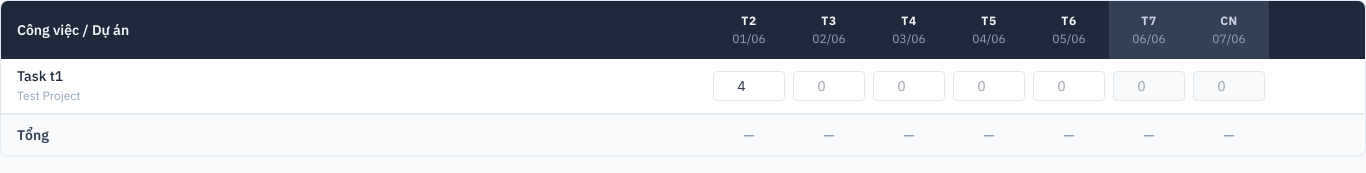
it: WeeklyGrid › resets draft to original on Escape key
Replace the text in the number field showing "4" with "9" at (749, 86), box [713,71,785,101]
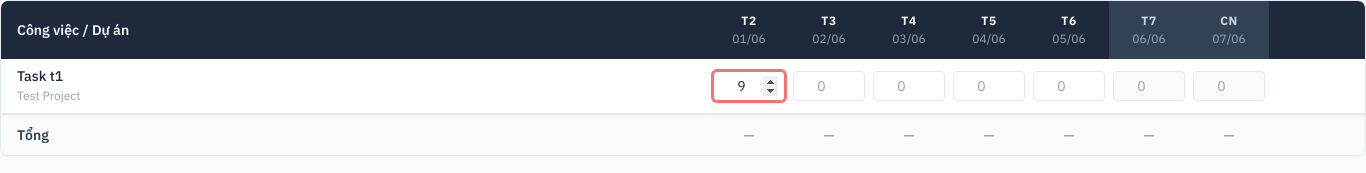
Press Escape
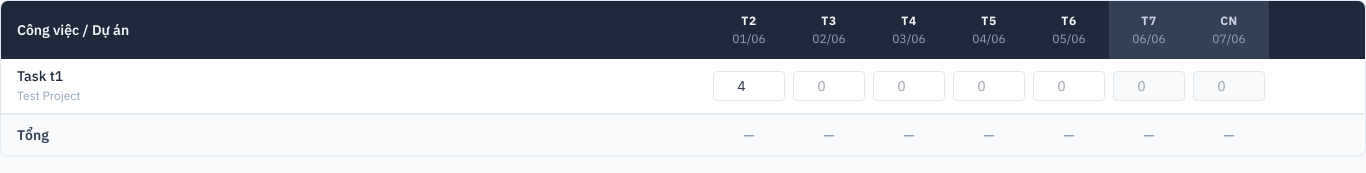
Now the number field showing "4" holds "4", box [713,71,785,101]
